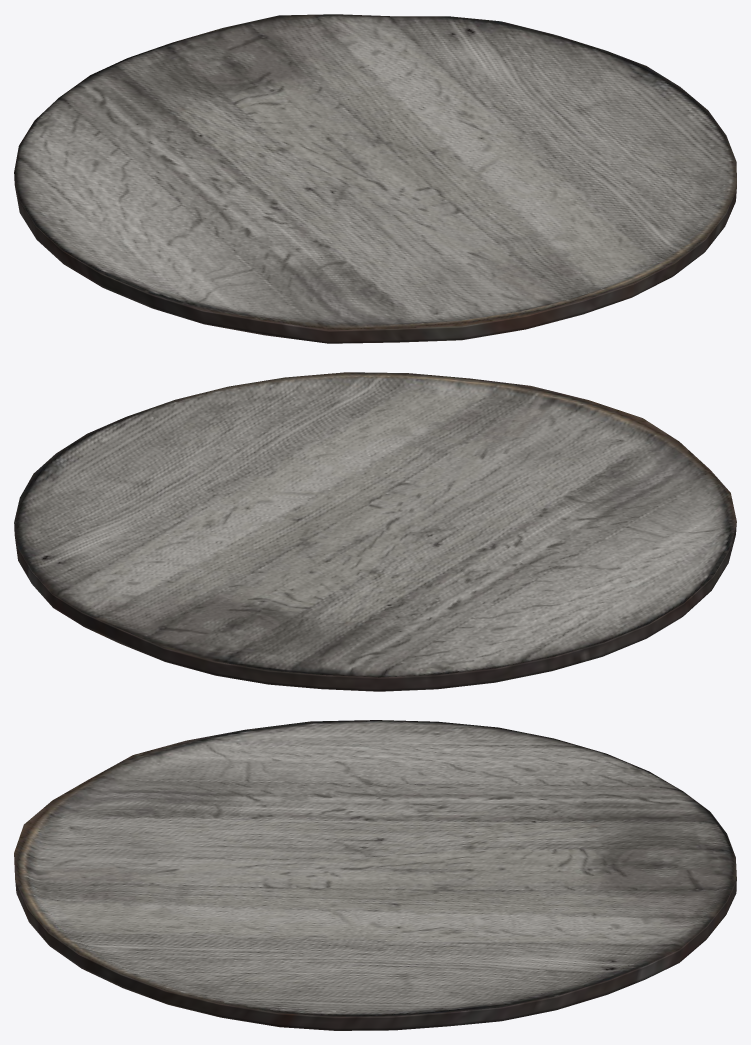
The model's file is Cask Lid.fbx.
3 renders of one model, top to bottom at view 1: azimuth 30°, elevation 25°; view 2: azimuth 150°, elevation 25°; view 3: azimuth 270°, elevation 25°, orthographic.
Parts seen in each view (by area): view 1: Cask Lid; view 2: Cask Lid; view 3: Cask Lid.
Boxes of the visible parts, x1,y1,x2,y2 form: Cask Lid: (14,14,736,343); Cask Lid: (14,372,736,691); Cask Lid: (14,720,736,1030).
Size of the model in its own units: 56.1 by 2.15 by 56.98.
Materials: 1 (1 with a texture image).
